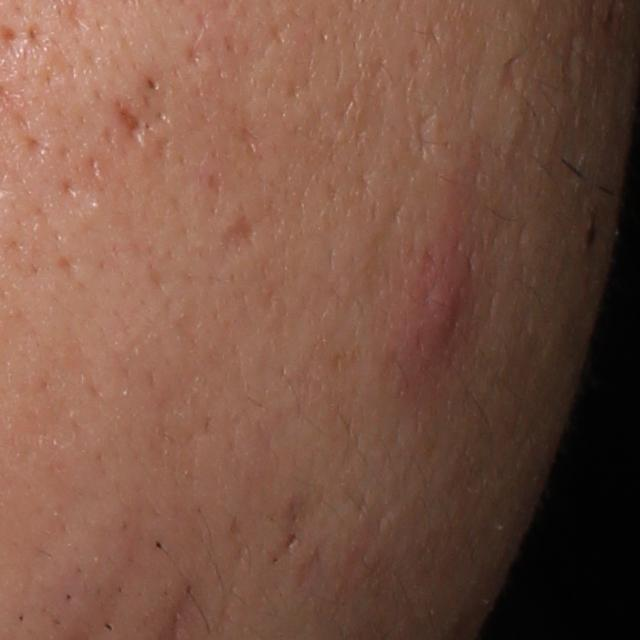atrophic_scar: (218, 205, 263, 255), (107, 97, 153, 145), (408, 106, 442, 163), (493, 51, 522, 99), (181, 33, 210, 78), (20, 126, 57, 161), (56, 252, 87, 282)
